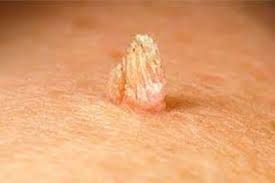Warts: (102, 23, 179, 118)
